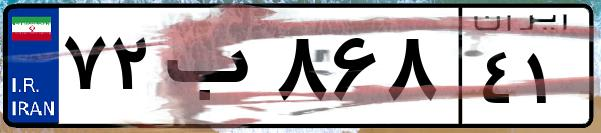1: (525, 38, 570, 115)
2: (110, 28, 158, 98)
4: (475, 38, 525, 113)
6: (330, 28, 385, 110)
7: (57, 26, 110, 100)
8: (270, 28, 330, 110), (385, 28, 445, 110)
ب: (158, 20, 270, 120)
